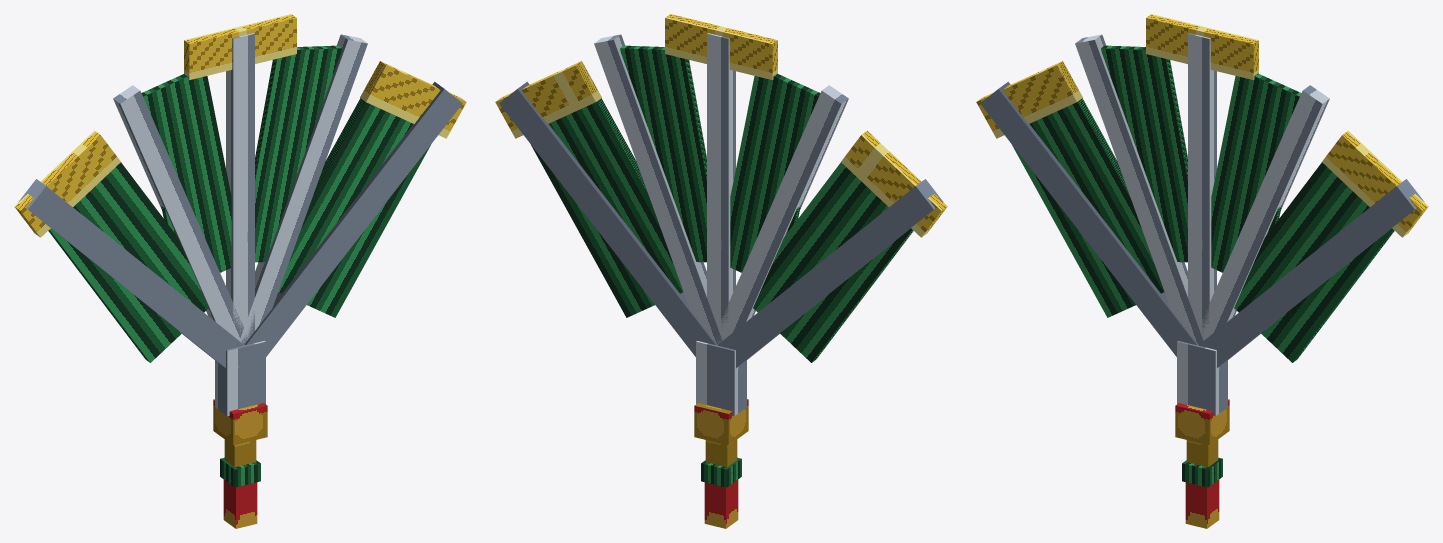
Rendered from SM_War_Fan.obj.
The picture shows the model from 3 angles, left to right: view 1: azimuth 30°, elevation 25°; view 2: azimuth 150°, elevation 25°; view 3: azimuth 330°, elevation 25°; orthographic projection.
Parts seen in each view (by area): view 1: SM_War_Fan; view 2: SM_War_Fan; view 3: SM_War_Fan.
Boxes of the visible parts, <box> form: SM_War_Fan: <box>14,14,466,528</box>; SM_War_Fan: <box>495,14,947,528</box>; SM_War_Fan: <box>976,14,1428,528</box>.
Size of the model in its own units: 1.3 by 1.37 by 0.1.
1 material, 1 textured.
